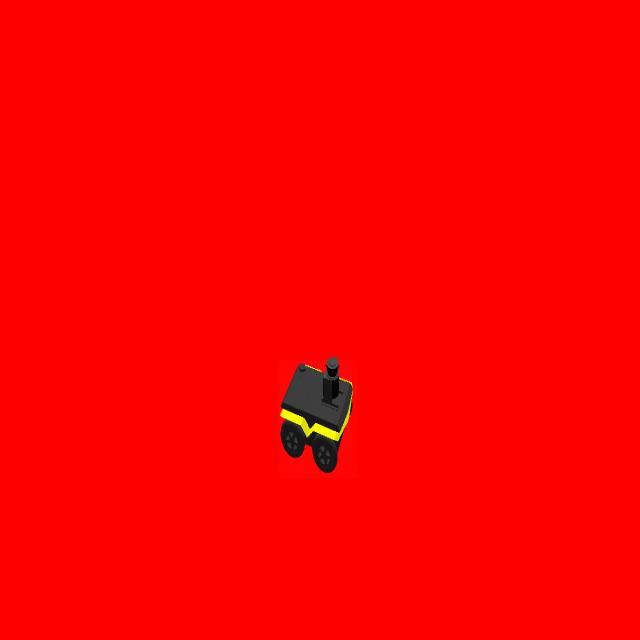jackal: (280, 360, 358, 478)
